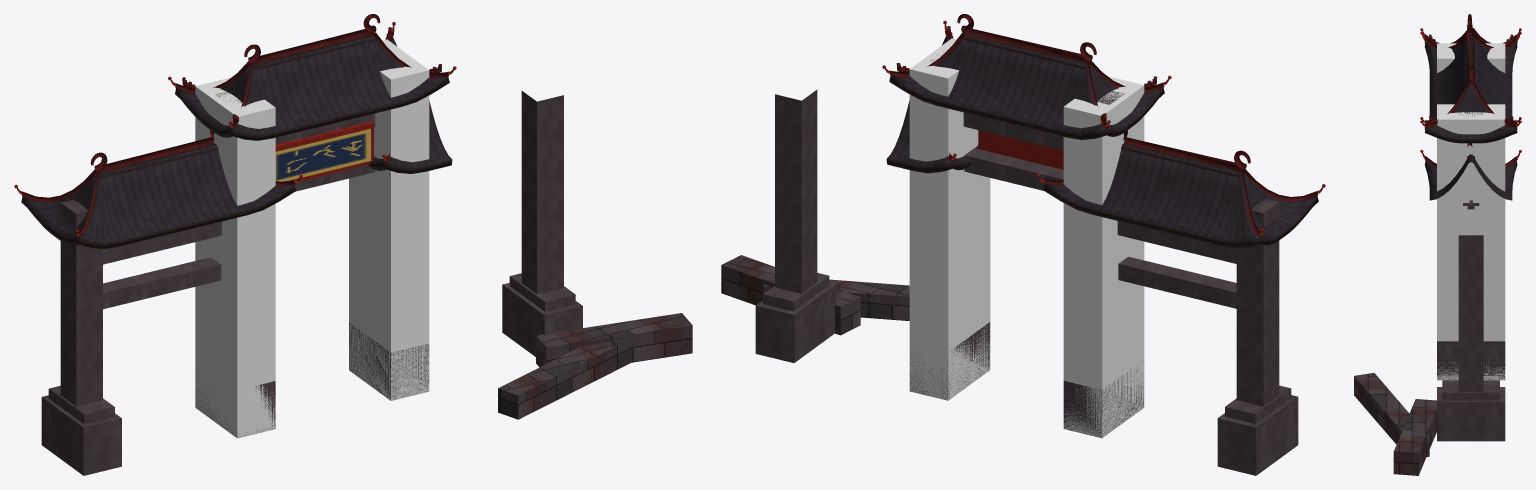
Rendered from ruined_gate.glb.
3 views of the same model, side by side, from view 1: azimuth 30°, elevation 25°; view 2: azimuth 150°, elevation 25°; view 3: azimuth 270°, elevation 25° (orthographic). The views are drawn at different scales.
Visible parts, largest first — view 1: RuinedGatePier-convcolonly.002, RuinedGatePier-convcolonly.001, RuinedGatePillars, RuinedGateR0Roof, RuinedGateR1Roof, RuinedGatePlinths, Rubble, RuinedGateBeams, Plaque, RuinedGateR1RoofRidges, RuinedGateR0RoofRidges, RuinedGateR2Roof (+1 smaller); view 2: RuinedGatePier-convcolonly.002, RuinedGatePier-convcolonly.001, RuinedGatePillars, RuinedGatePlinths, RuinedGateR0Roof, RuinedGateR1Roof, RuinedGateBeams, Rubble, RuinedGateR1RoofRidges, RuinedGateR0RoofRidges, PlaqueFrame, RuinedGateR2Roof; view 3: RuinedGatePier-convcolonly.002, RuinedGateR1Roof, RuinedGatePlinths, Rubble, RuinedGatePillars, RuinedGateR2Roof, RuinedGateR1RoofRidges, RuinedGatePier-convcolonly.001, RuinedGateR1RidgeBeasts, RuinedGateR0RoofRidges.
Part boxes in pixels (x1,y1,x2,y2): RuinedGatePier-convcolonly.002: (349,39,429,400); RuinedGatePier-convcolonly.001: (195,77,275,438); RuinedGatePillars: (60,61,563,406); RuinedGateR0Roof: (21,143,295,248); RuinedGateR1Roof: (175,35,449,140); RuinedGatePlinths: (41,273,582,475); Rubble: (498,313,692,419); RuinedGateBeams: (103,113,375,309); Plaque: (275,128,370,181); RuinedGateR1RoofRidges: (175,14,448,128); RuinedGateR0RoofRidges: (22,130,295,237); RuinedGateR2Roof: (368,100,452,173); RuinedGatePier-convcolonly.002: (909,38,990,400); RuinedGatePier-convcolonly.001: (1063,76,1144,438); RuinedGatePillars: (775,54,1279,406); RuinedGatePlinths: (755,273,1298,475); RuinedGateR0Roof: (1043,143,1318,248); RuinedGateR1Roof: (889,33,1164,139); RuinedGateBeams: (963,112,1236,308); Rubble: (721,255,909,335); RuinedGateR1RoofRidges: (890,14,1163,128); RuinedGateR0RoofRidges: (1044,130,1317,236); PlaqueFrame: (978,130,1063,169); RuinedGateR2Roof: (886,100,978,173); RuinedGatePier-convcolonly.002: (1437,104,1505,380); RuinedGateR1Roof: (1424,34,1517,143); RuinedGatePlinths: (1437,341,1505,441); Rubble: (1354,373,1436,475); RuinedGatePillars: (1458,112,1483,391); RuinedGateR2Roof: (1424,154,1517,200); RuinedGateR1RoofRidges: (1424,17,1517,127); RuinedGatePier-convcolonly.001: (1437,43,1505,72); RuinedGateR1RidgeBeasts: (1429,34,1513,124); RuinedGateR0RoofRidges: (1424,14,1517,123).
Size of what is drawn, in the model's own units: 15.74 by 9.21 by 4.66.
7 materials, 7 textured.
